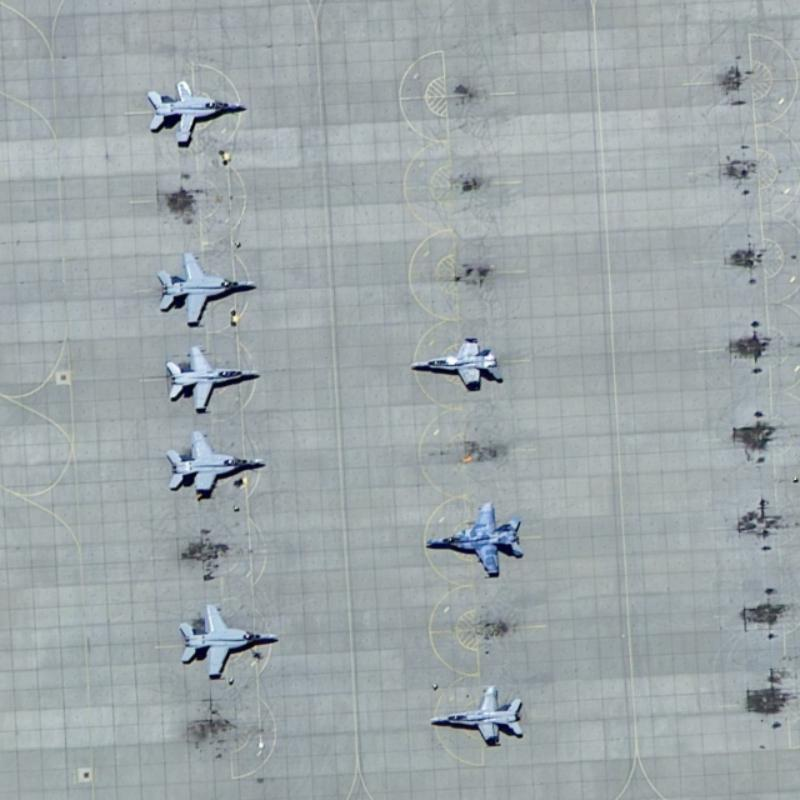A16: (149, 249, 261, 331), (419, 497, 527, 581), (175, 600, 281, 683), (160, 341, 262, 418), (141, 77, 249, 149), (160, 427, 268, 499), (424, 682, 529, 750), (406, 334, 507, 392)
